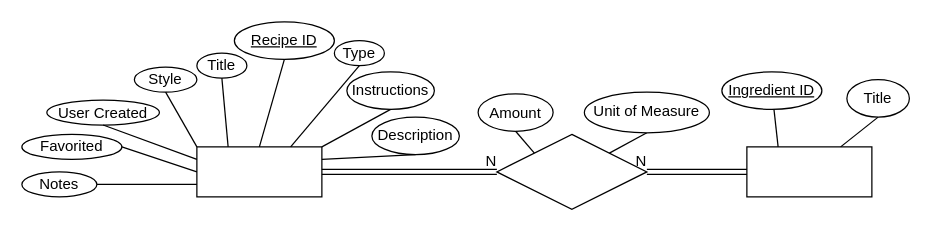
Some shapes in this 931 by 231 pixel diagram are drawn without their labels. The shapes that lost their labels are listed below. From the top down, each one's centre as x and y in pixels, then its label:
At point (259, 171): "Recipes".
At point (571, 171): "Contains".
At point (809, 171): "Ingredients".
